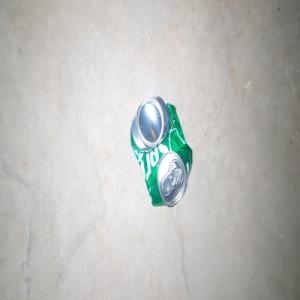SodaCan: (129, 95, 192, 207)
